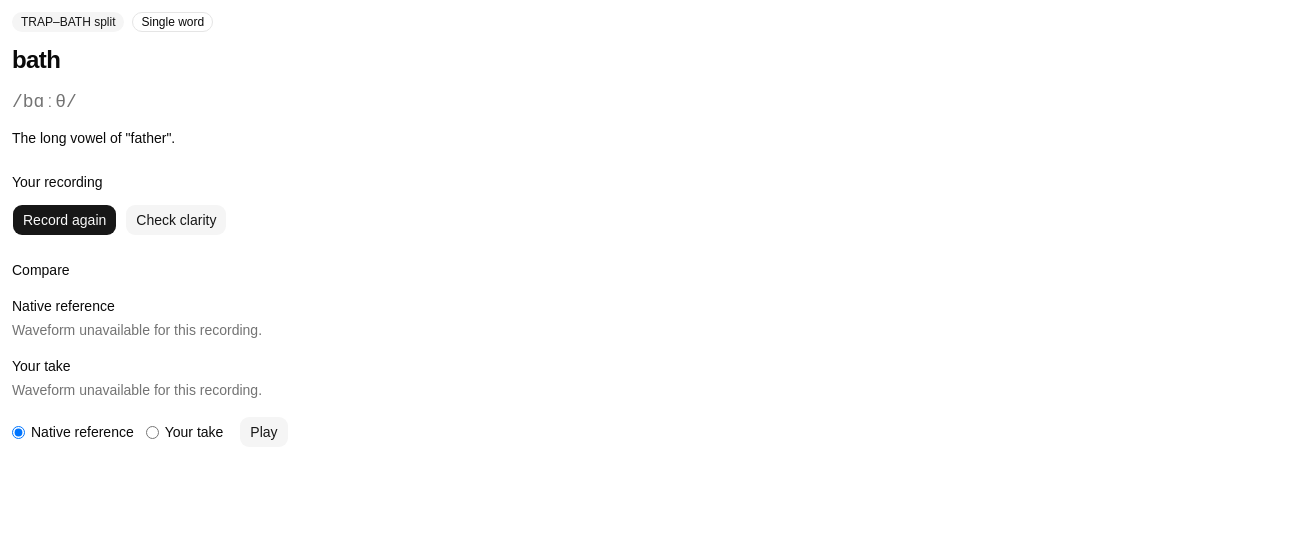
Test: PracticePanel › shows the API message when scoring fails
This screenshot has width=1292, height=549.
Click the button "Check clarity" at (176, 220), box [125,204,227,236]
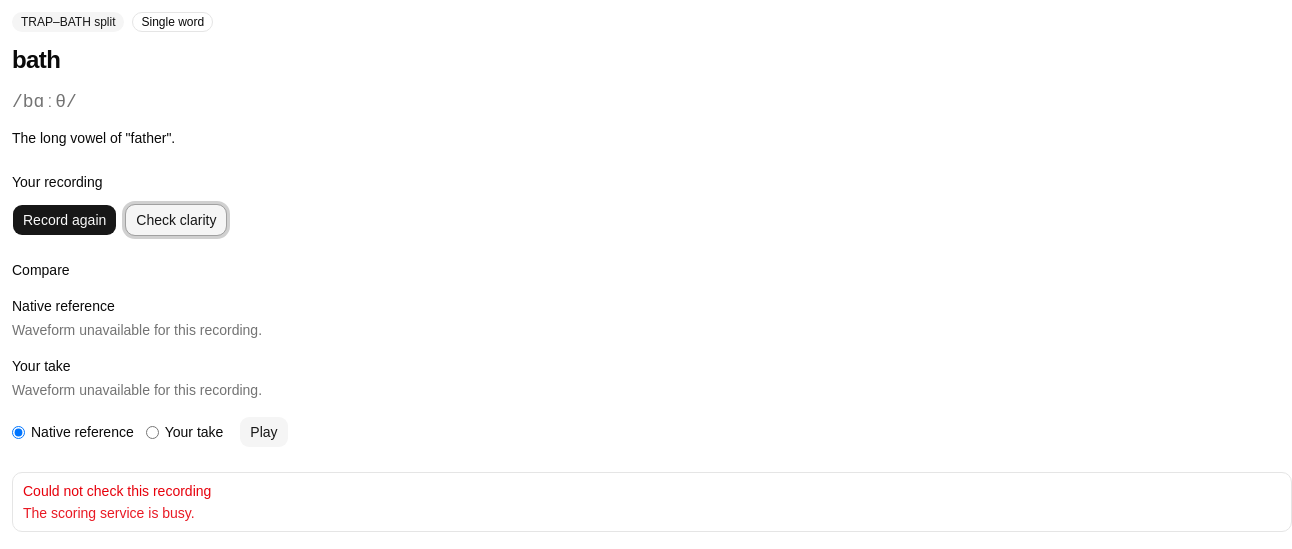
Result: the text "The scoring service is busy." is shown at [23,505,195,521]
